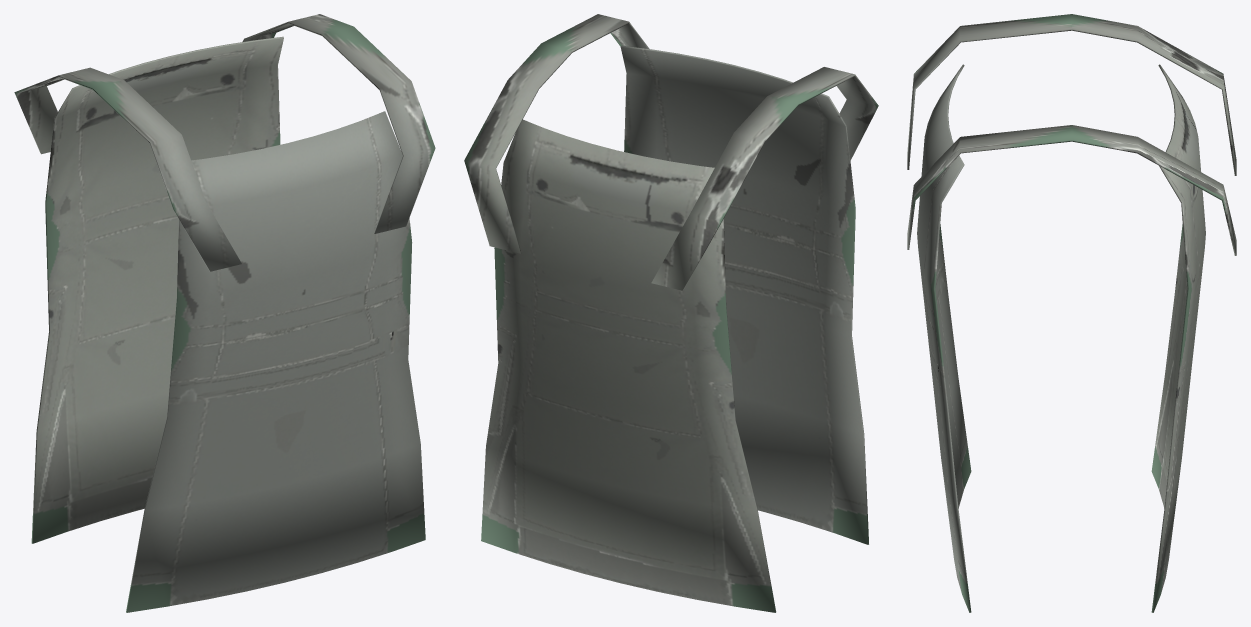
File: gear-tunika.glb
The picture shows the model from 3 angles, left to right: view 1: azimuth 30°, elevation 25°; view 2: azimuth 150°, elevation 25°; view 3: azimuth 270°, elevation 25°; orthographic projection. The views are drawn at different scales.
Parts seen in each view (by area): view 1: gear-tunika; view 2: gear-tunika; view 3: gear-tunika.
Part boxes in pixels (left/top/right/bottom): gear-tunika: left=14, top=14, right=435, bottom=612; gear-tunika: left=464, top=14, right=878, bottom=612; gear-tunika: left=907, top=14, right=1236, bottom=612.
Bounding box in the file's own units: 0.5105 × 0.7857 × 0.503.
1 material, 1 textured.
